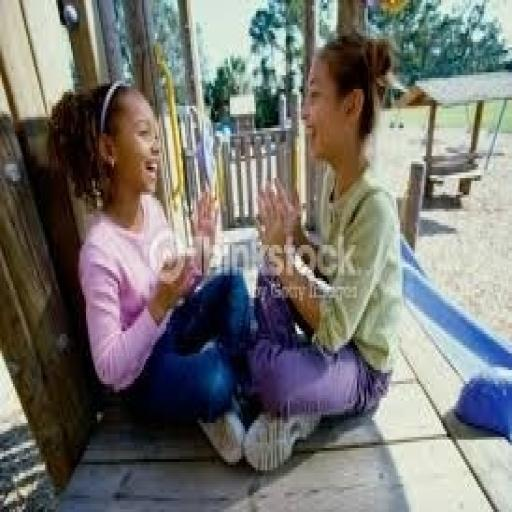clapping: (45, 78, 252, 467), (243, 28, 404, 473)
